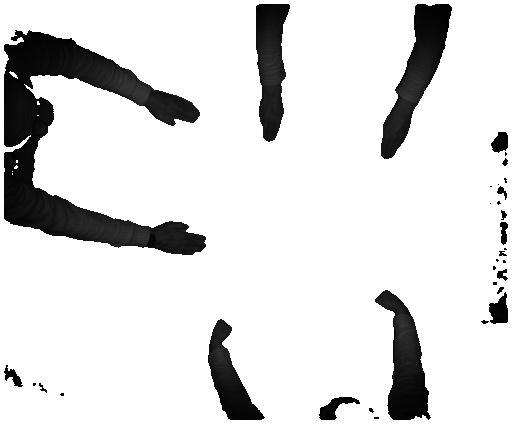fist: (368, 288, 409, 315), (208, 312, 231, 349)
hand: (156, 216, 207, 255), (376, 107, 412, 159), (153, 93, 199, 127), (256, 97, 287, 143)
